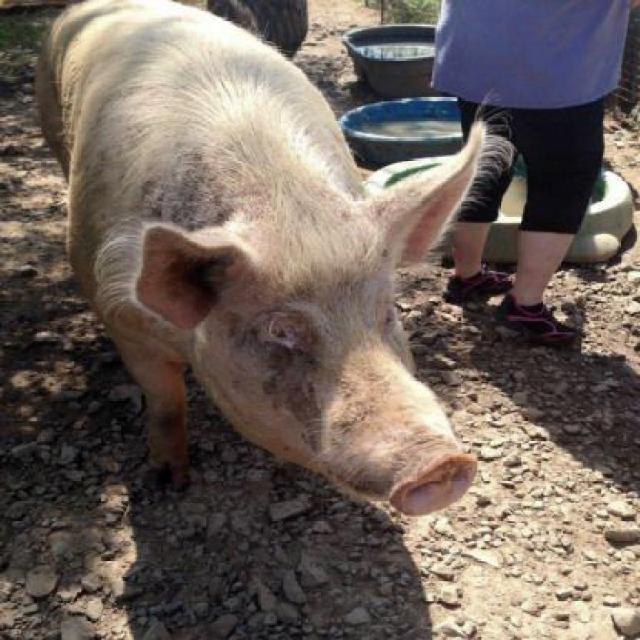Boar: (33, 0, 517, 518)
